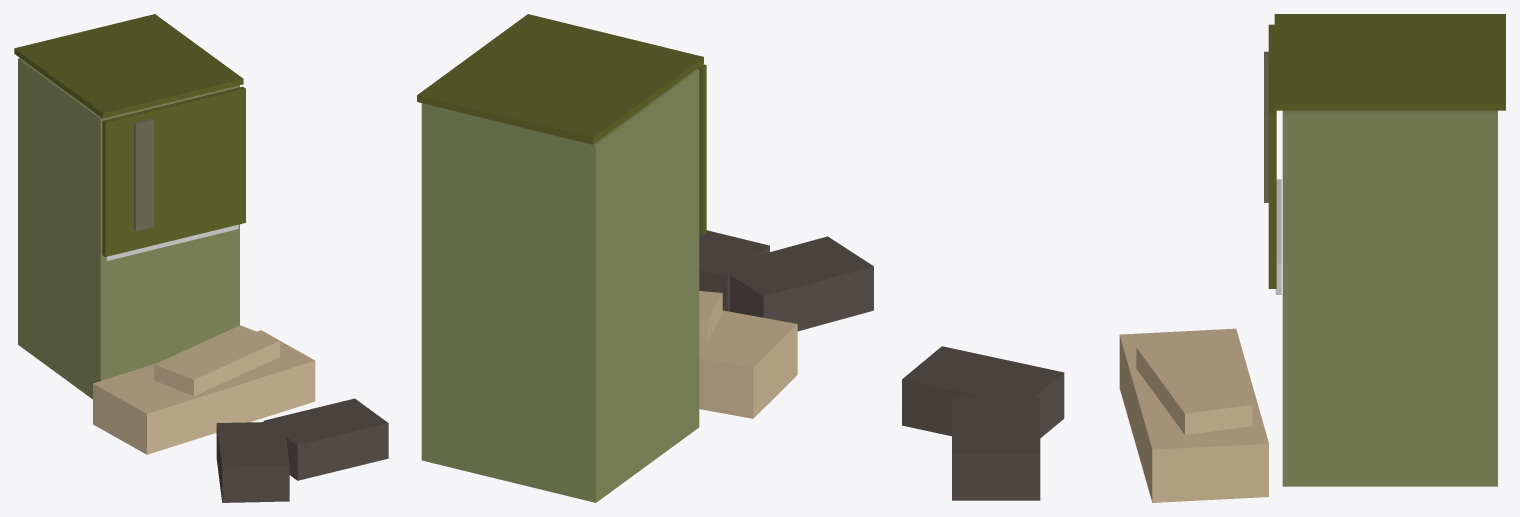
File: SM_HescoCorto1_v4_Red_e1_Danado_LOD1.fbx
3 renders of one model, left to right at view 1: azimuth 30°, elevation 25°; view 2: azimuth 150°, elevation 25°; view 3: azimuth 270°, elevation 25°, orthographic. The views are drawn at different scales.
Parts seen in each view (by area): view 1: SM_hesco_piezas_v57_LOD1; view 2: SM_hesco_piezas_v57_LOD1; view 3: SM_hesco_piezas_v57_LOD1.
Boxes of the visible parts, x1,y1,x2,y2 form: SM_hesco_piezas_v57_LOD1: [14, 14, 388, 502]; SM_hesco_piezas_v57_LOD1: [417, 14, 873, 502]; SM_hesco_piezas_v57_LOD1: [902, 14, 1505, 502].
Bounding box in the file's own units: 1.46 × 2.16 × 3.08.
